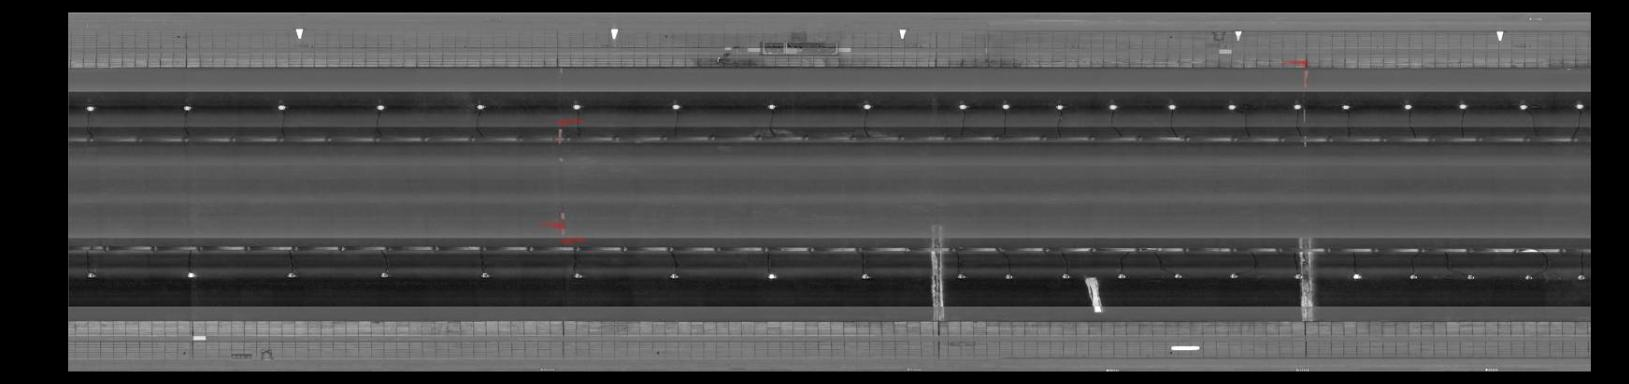light: (854, 100, 878, 113), (760, 268, 782, 282), (282, 268, 301, 282), (763, 99, 782, 113), (475, 268, 496, 281), (567, 100, 587, 113), (664, 269, 684, 282), (1168, 269, 1187, 282), (1572, 269, 1587, 285), (82, 267, 100, 281), (182, 267, 199, 281), (471, 100, 489, 113), (667, 100, 686, 113), (1222, 100, 1241, 112), (371, 101, 389, 114), (375, 268, 394, 280), (175, 103, 196, 113), (1521, 268, 1537, 282), (1514, 99, 1530, 112), (1103, 100, 1121, 112), (272, 102, 291, 113), (855, 271, 874, 282), (1453, 100, 1472, 111), (1348, 269, 1365, 281), (1571, 100, 1587, 112), (1399, 100, 1416, 112), (81, 103, 99, 114), (1405, 270, 1422, 281), (1059, 270, 1074, 282), (954, 100, 972, 110), (1051, 100, 1067, 112), (569, 271, 586, 282), (953, 271, 969, 282), (997, 101, 1014, 112), (1225, 271, 1241, 282), (1163, 101, 1179, 112), (1113, 271, 1130, 281), (1463, 271, 1478, 282), (1288, 99, 1304, 110), (1000, 271, 1015, 282), (1339, 101, 1354, 112), (1289, 271, 1303, 281)
